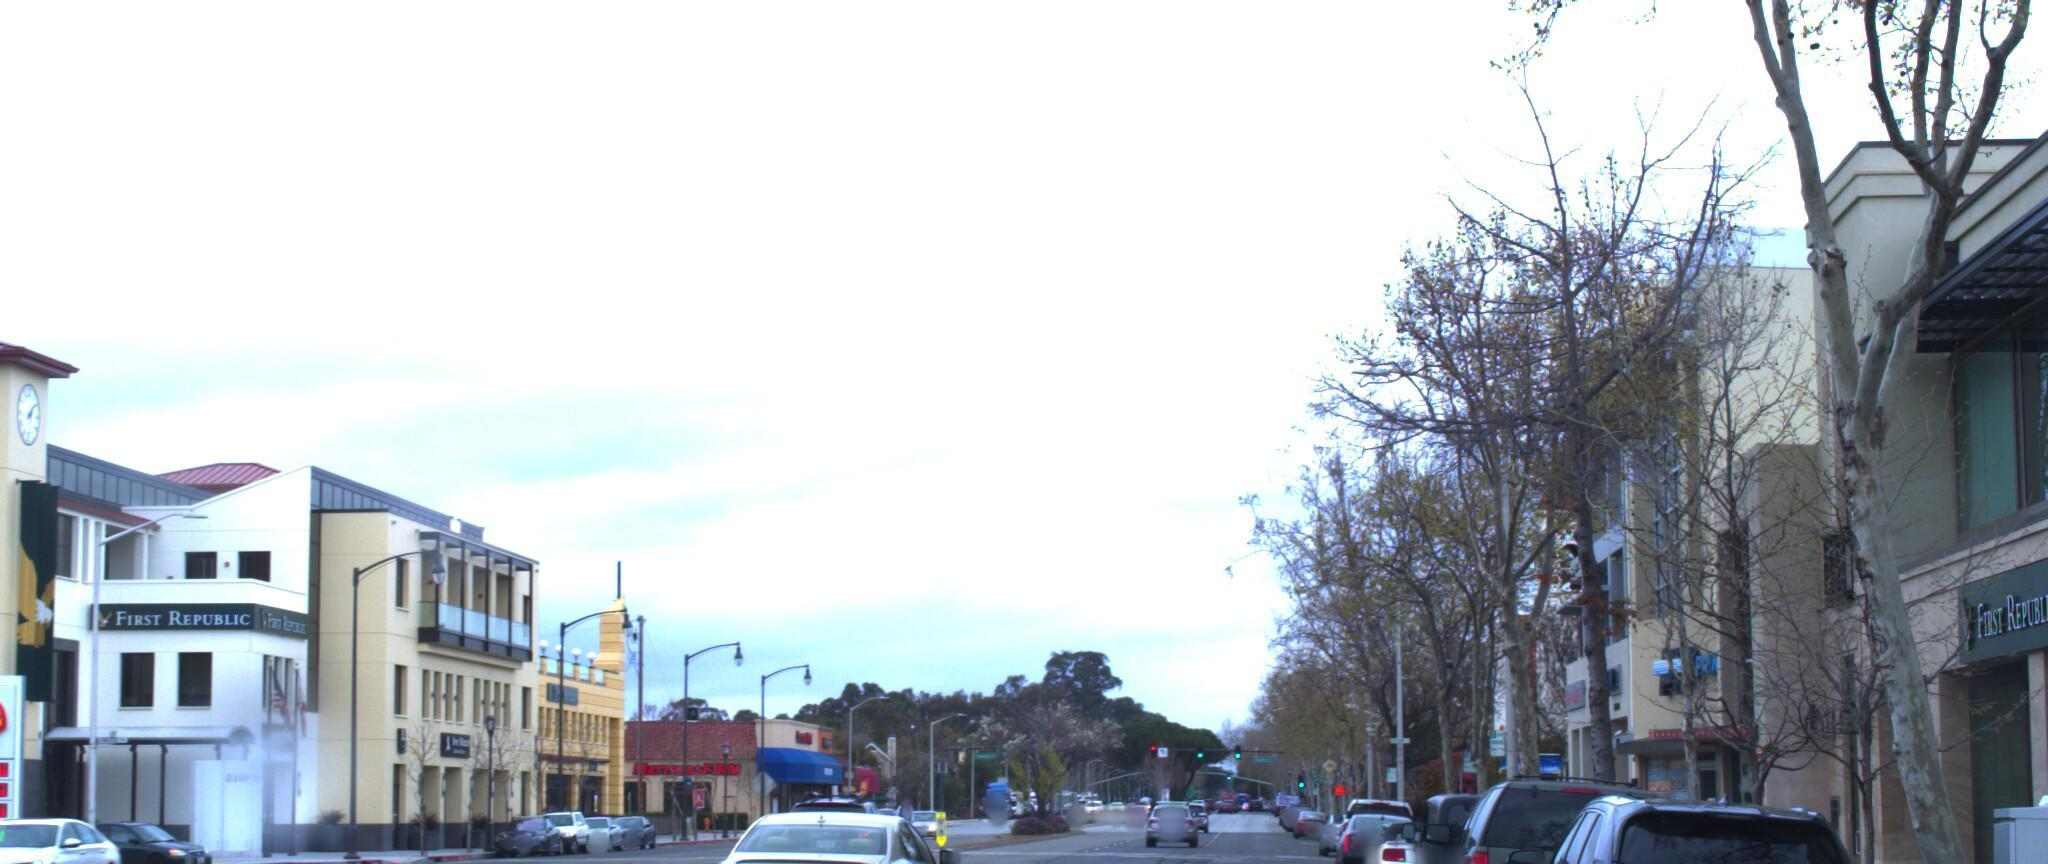car: (1501, 777, 1930, 864), (1412, 760, 1674, 864), (711, 809, 976, 864), (1386, 803, 1588, 864), (0, 794, 141, 864), (1322, 788, 1422, 864), (1351, 813, 1484, 864)
